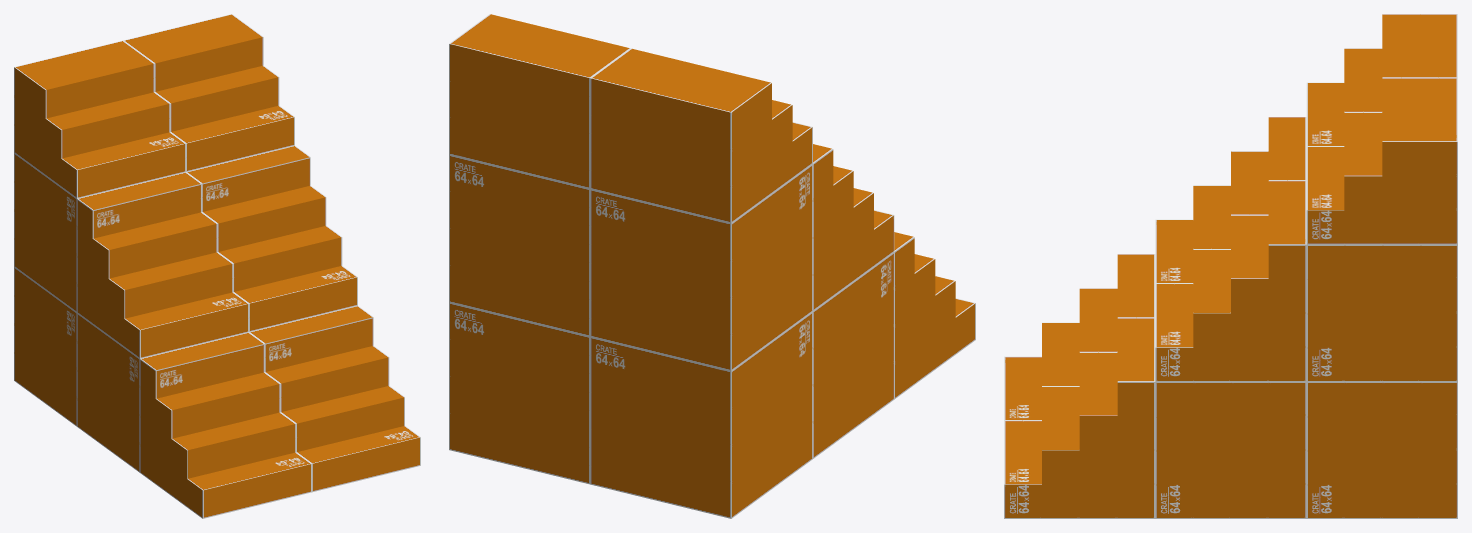
The model's file is stairs.obj.
3 renders of one model, left to right at view 1: azimuth 30°, elevation 25°; view 2: azimuth 150°, elevation 25°; view 3: azimuth 270°, elevation 25°, orthographic. The views are drawn at different scales.
Visible parts, largest first — view 1: Cube.005; view 2: Cube.005; view 3: Cube.005.
Part boxes in pixels (bbox=[...]): Cube.005: bbox=[14, 14, 420, 518]; Cube.005: bbox=[449, 14, 975, 518]; Cube.005: bbox=[1004, 14, 1457, 518].
Size of the model in its own units: 2 by 2.75 by 3.
